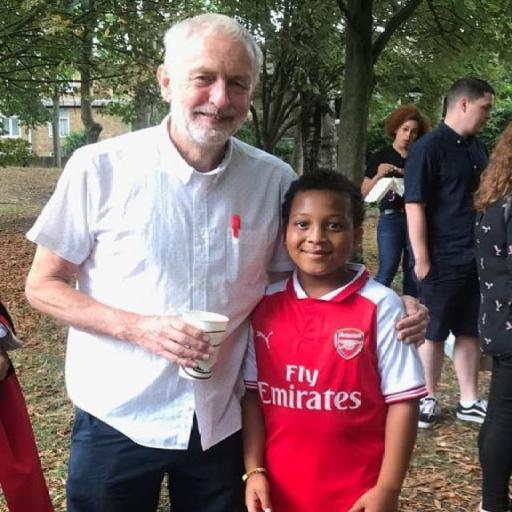Emirates: (255, 361, 362, 412)
